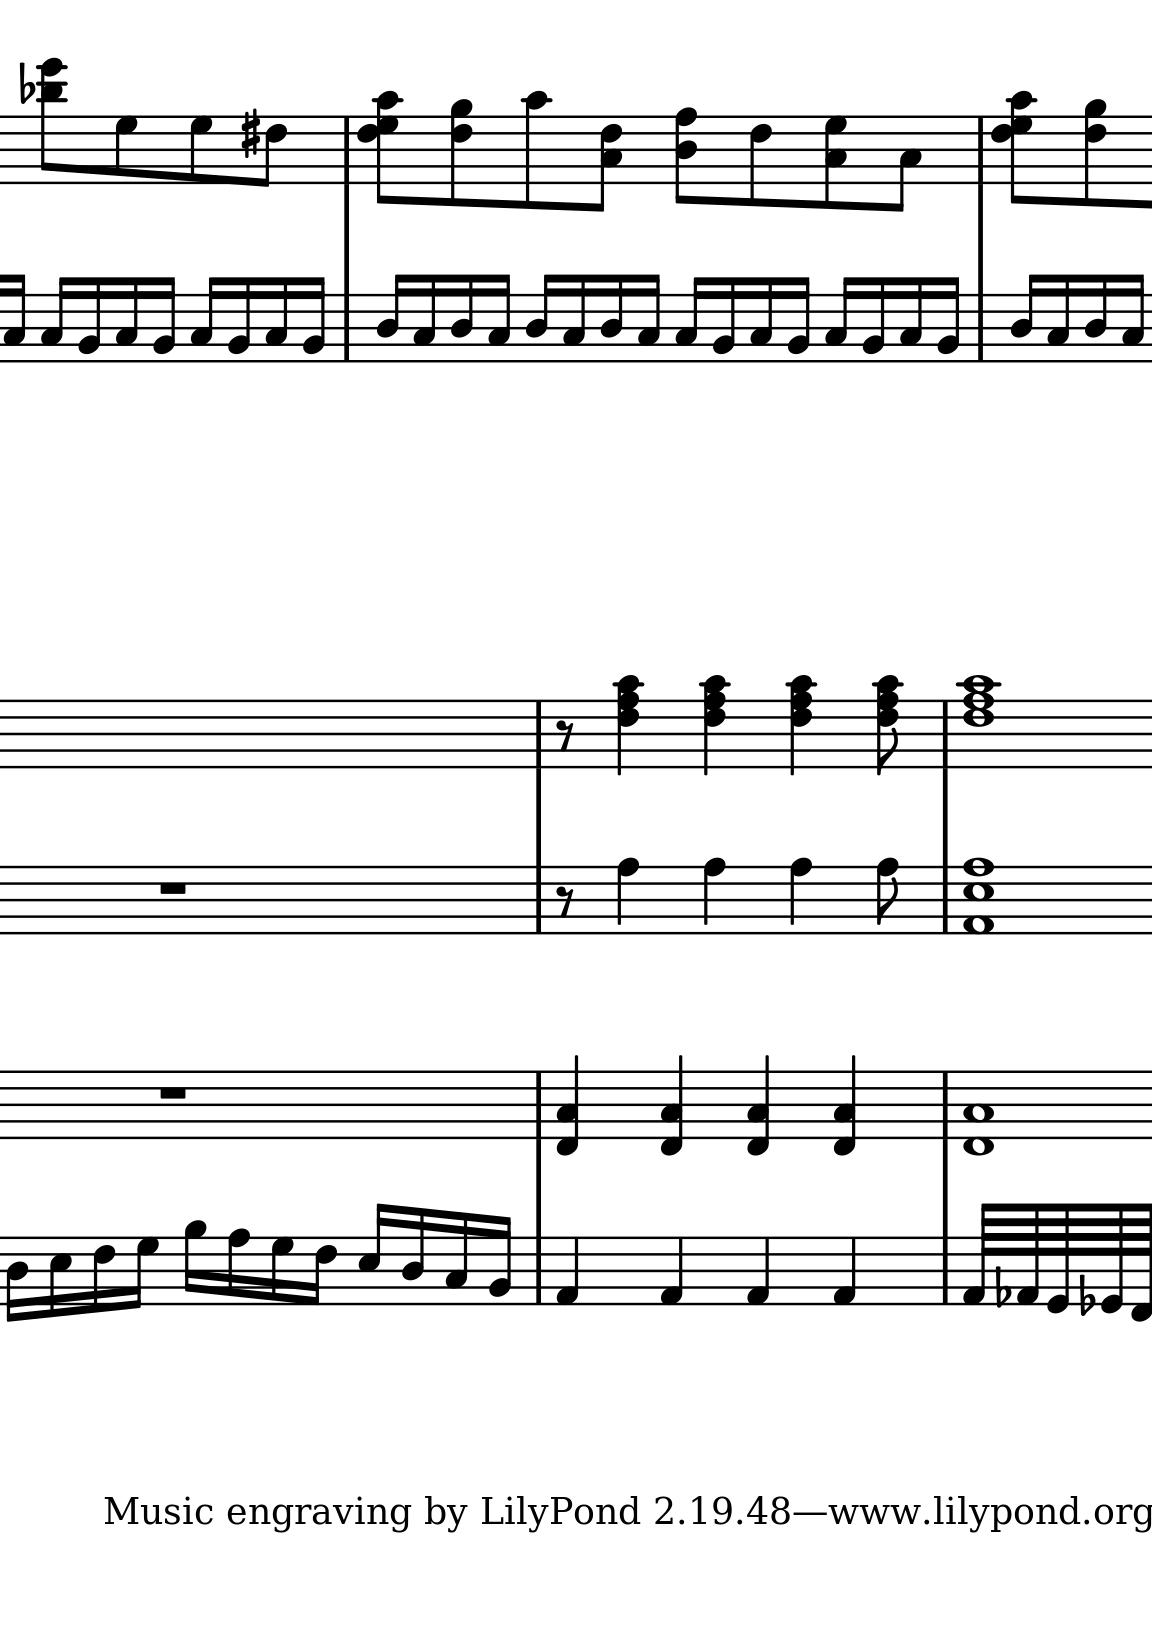16_2: (76, 275, 103, 365), (486, 1214, 512, 1307), (226, 275, 253, 364), (935, 275, 962, 364), (150, 275, 176, 364), (300, 275, 327, 364), (711, 275, 737, 364), (785, 275, 812, 364), (862, 275, 886, 365)
16_3: (188, 275, 222, 364), (823, 275, 857, 364), (37, 275, 71, 363), (672, 275, 706, 363), (443, 1210, 470, 1307), (560, 272, 588, 364), (896, 275, 925, 364), (1045, 272, 1072, 364), (411, 273, 439, 364), (113, 275, 141, 364), (748, 275, 775, 364), (1, 272, 27, 364), (485, 272, 511, 364), (635, 273, 661, 365), (1120, 273, 1146, 364), (263, 275, 289, 364)
16_4: (1007, 270, 1041, 365), (374, 272, 406, 364), (524, 272, 556, 364), (400, 1205, 426, 1307), (449, 272, 476, 364), (598, 272, 625, 364), (1083, 272, 1110, 364), (5, 1236, 27, 1323)
16_5: (357, 1198, 391, 1308), (47, 1235, 74, 1318)
16_6: (304, 1235, 337, 1308), (91, 1235, 116, 1313)
16_7: (128, 1235, 160, 1311), (269, 1236, 295, 1308)
16_8: (224, 1227, 251, 1307)
16_9: (182, 1219, 208, 1307)
1_-1_3: (962, 1070, 996, 1156)
1_th: (959, 669, 997, 768), (959, 854, 995, 938)
4_-1_3: (555, 1054, 580, 1156), (660, 1056, 684, 1158), (746, 1056, 770, 1156), (832, 1056, 857, 1156)
4_1: (554, 1236, 582, 1307), (743, 1236, 772, 1307), (657, 1236, 684, 1307), (830, 1236, 858, 1307)
4_8: (615, 856, 641, 937), (701, 856, 727, 937), (788, 856, 814, 937)
4_th: (612, 673, 647, 776), (699, 674, 732, 775), (785, 673, 817, 778)
64_0: (1098, 1200, 1125, 1313), (1045, 1203, 1071, 1315)
64_1: (960, 1199, 992, 1308), (1014, 1203, 1041, 1307)
8_10: (521, 90, 551, 213)
8_11_14: (34, 56, 69, 186)
8_3: (888, 113, 924, 216)
8_3_6: (588, 113, 623, 213)
8_3_7: (822, 115, 849, 211)
8_4_8: (674, 106, 697, 207)
8_6: (747, 113, 774, 209), (257, 113, 288, 191)
8_6_9: (448, 98, 475, 211), (1083, 98, 1108, 208)
8_7: (187, 113, 214, 187), (112, 113, 138, 187)
8_8: (874, 856, 900, 937)
8_th: (990, 88, 1039, 204), (357, 90, 404, 207), (873, 673, 906, 779)
Flat: (17, 60, 36, 105), (994, 1265, 1011, 1310), (1078, 1274, 1095, 1317)
Rests1: (155, 1082, 190, 1104), (155, 877, 190, 898)
Rests8: (554, 884, 577, 918), (555, 718, 575, 751)
Sharp: (238, 107, 261, 160)
Single_barline: (526, 1070, 550, 1140), (969, 116, 992, 184), (934, 1070, 958, 1138), (967, 295, 991, 361), (527, 702, 551, 768), (526, 867, 550, 933), (335, 116, 358, 184), (934, 1237, 956, 1306), (334, 294, 357, 361), (527, 1236, 549, 1306), (934, 866, 955, 935), (934, 702, 955, 768)
